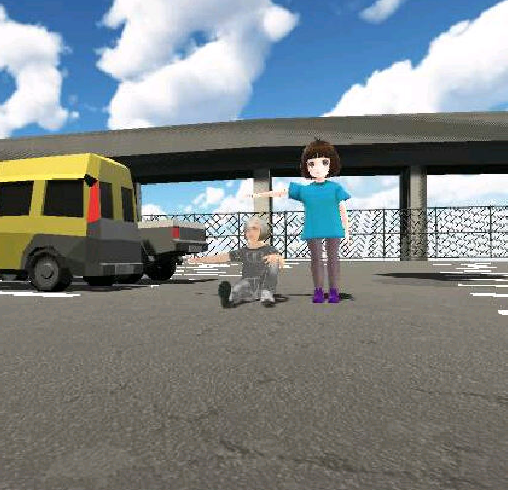doubleP_left: (180, 139, 350, 309)
